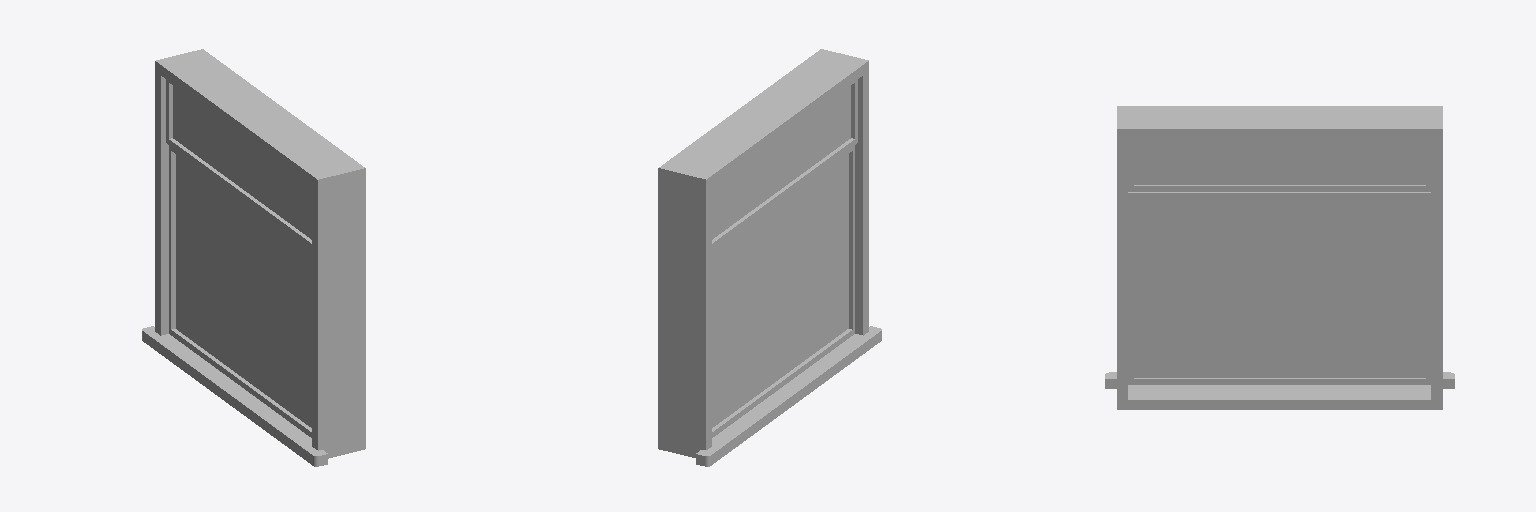
Rendered from Windows - Single - 1.obj.
The picture shows the model from 3 angles: view 1: azimuth 30°, elevation 25°; view 2: azimuth 150°, elevation 25°; view 3: azimuth 270°, elevation 25°; orthographic projection.
Parts seen in each view (by area): view 1: object6, object1, object3, object5, object2, object4; view 2: object6, object1, object3, object5, object2, object4; view 3: object1, object6, object3, object2, object4.
Boxes of the visible parts, <box> form: object6: <box>155,49,365,458</box>; object1: <box>176,155,311,427</box>; object3: <box>173,86,311,239</box>; object5: <box>142,326,327,466</box>; object2: <box>169,145,311,437</box>; object4: <box>166,79,311,248</box>; object6: <box>658,49,868,457</box>; object1: <box>712,154,848,427</box>; object3: <box>712,86,850,239</box>; object5: <box>696,326,881,466</box>; object2: <box>712,145,854,437</box>; object4: <box>712,79,857,248</box>; object1: <box>1134,200,1425,377</box>; object6: <box>1117,106,1442,409</box>; object3: <box>1134,140,1425,184</box>; object2: <box>1128,192,1430,384</box>; object4: <box>1128,140,1430,191</box>.
Bounding box in the file's own units: 11.18 × 53.26 × 60.02.